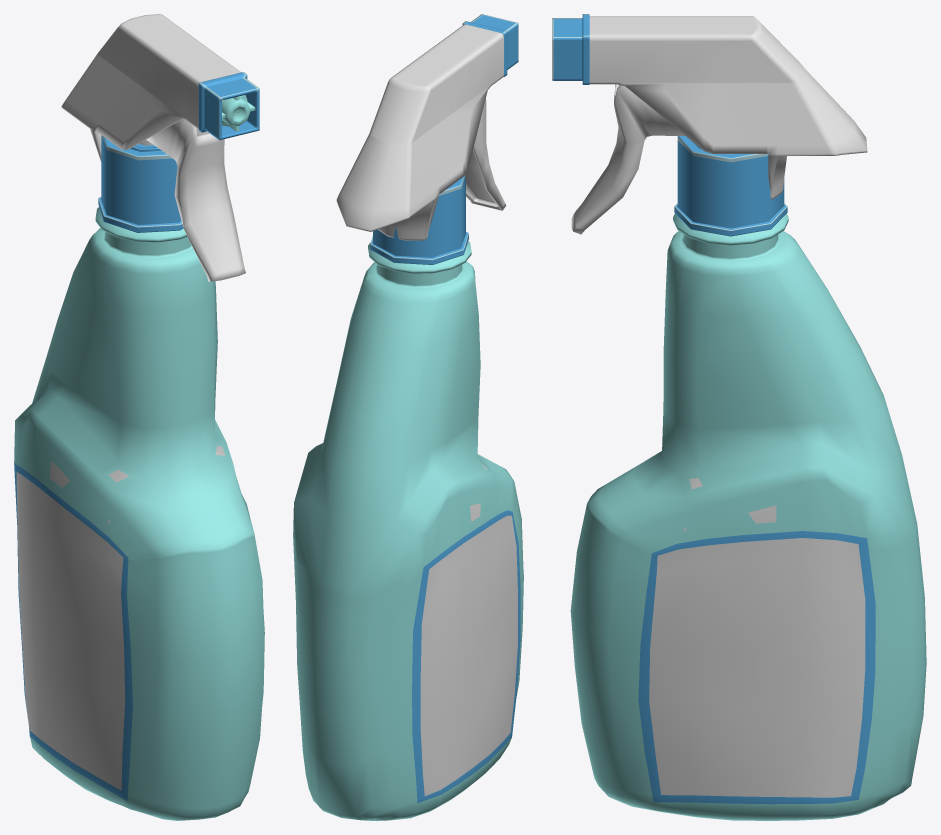
File: CleaningBottle.fbx
3 views of the same model, side by side, from view 1: azimuth 30°, elevation 25°; view 2: azimuth 150°, elevation 25°; view 3: azimuth 270°, elevation 25° (orthographic). The views are drawn at different scales.
Parts seen in each view (by area): view 1: Bottle, Case, Lever, Cap, Nozzle_Case, Nozzle, Liquid; view 2: Bottle, Case, Cap, Lever, Nozzle_Case; view 3: Bottle, Case, Cap, Lever, Nozzle_Case.
Part boxes in pixels (box(x1,y1,x2,y2)): Bottle: box(14, 207, 264, 820); Case: box(61, 14, 240, 161); Lever: box(146, 119, 245, 281); Cap: box(98, 135, 183, 232); Nozzle_Case: box(198, 72, 259, 140); Nozzle: box(222, 95, 250, 126); Liquid: box(49, 439, 225, 522); Bottle: box(293, 241, 523, 820); Case: box(336, 24, 503, 240); Cap: box(370, 174, 468, 264); Lever: box(466, 98, 506, 210); Nozzle_Case: box(462, 14, 518, 76); Bottle: box(570, 213, 926, 820); Case: box(589, 16, 867, 199); Cap: box(674, 136, 787, 236); Lever: box(571, 84, 685, 234); Nozzle_Case: box(552, 14, 589, 84).
Size of the model in its own units: 1565 by 6678 by 2968.
